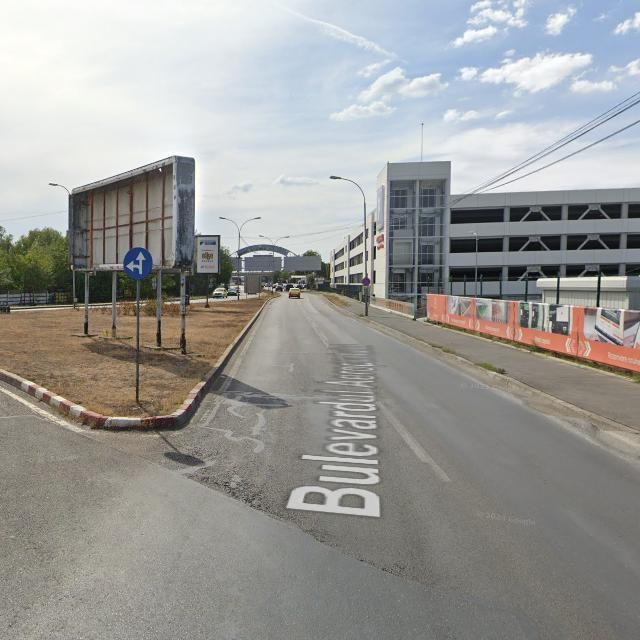forb_waiting: (362, 277, 370, 286)
